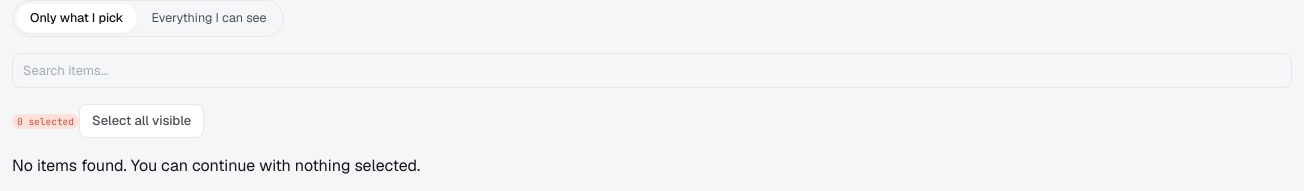
Test: explains Everything for slack/channels without the pick-only mail hint
Click the tab "Everything I can see" at {"x": 209, "y": 18}, box [138, 4, 280, 33]
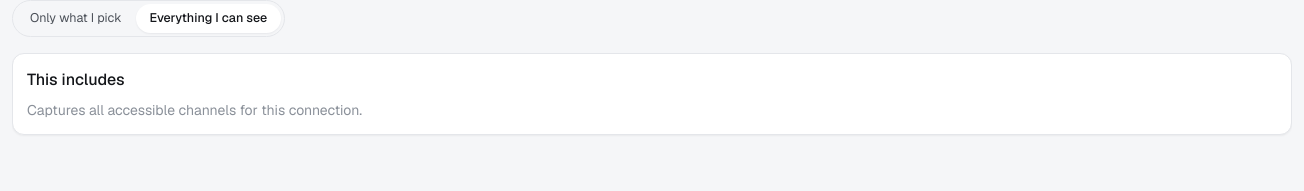
Expected: the text "Captures all accessible channels for this connection." is shown, [27, 101, 362, 119]
